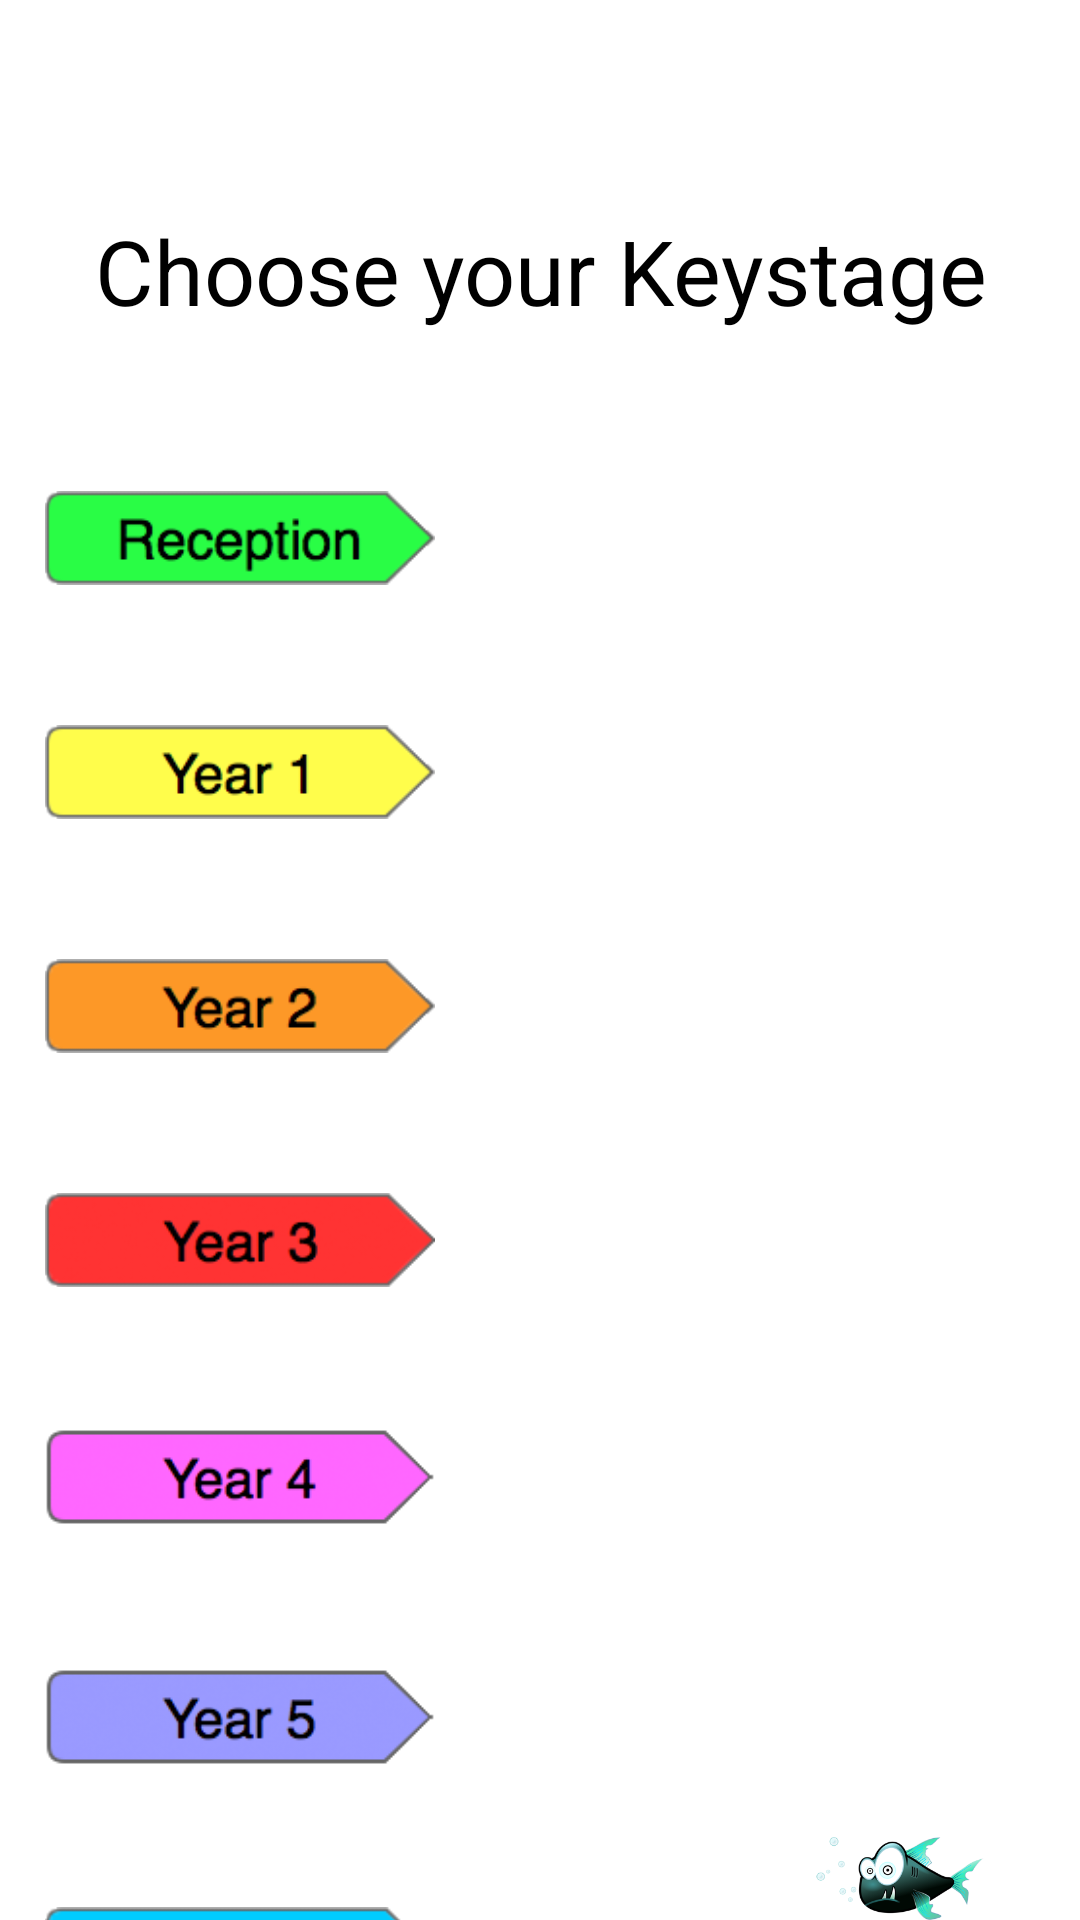

Icons on this 1080x1920 Android screen, each with its box as BBox(x1, y1, x2, y2):
cartoon piranha: BBox(816, 1837, 982, 1920)
